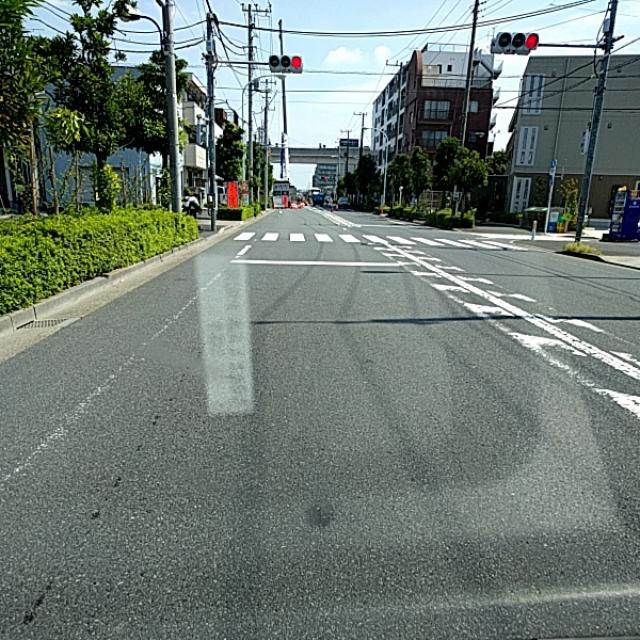pothole: (79, 452, 131, 523)
